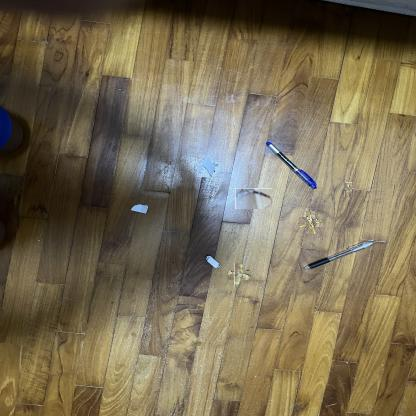dirty: (235, 188, 272, 209), (302, 214, 320, 231), (231, 267, 247, 284), (200, 159, 217, 175), (131, 204, 149, 214), (344, 182, 352, 197)
